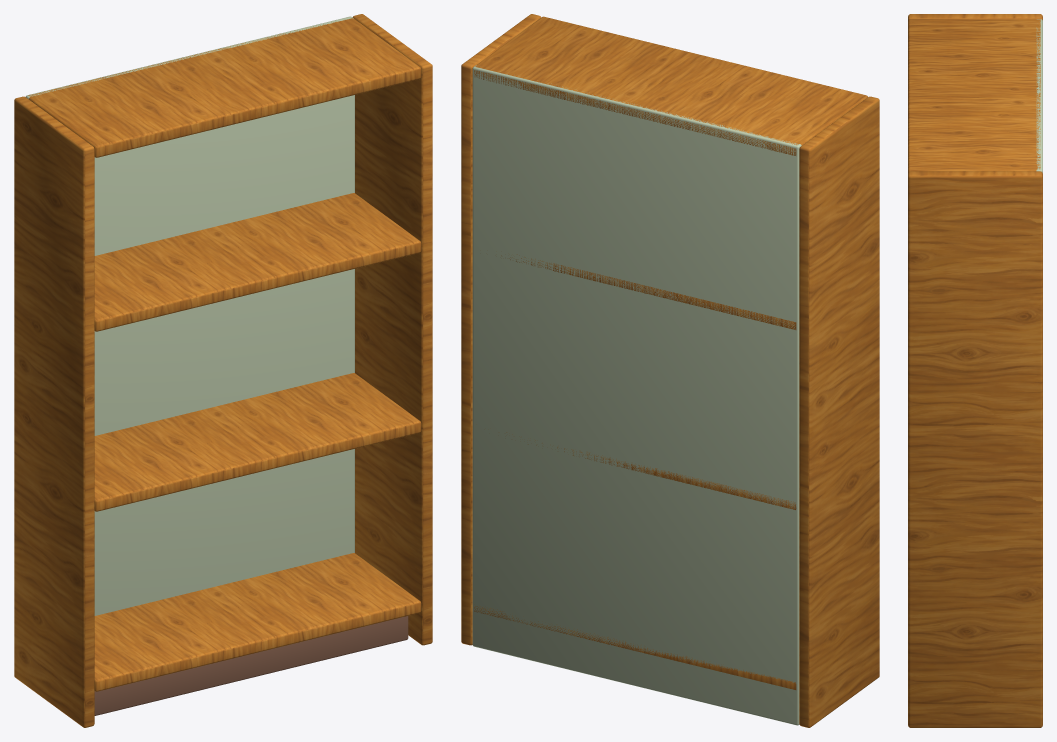
File: display-bookcase.glb
3 renders of one model, left to right at view 1: azimuth 30°, elevation 25°; view 2: azimuth 150°, elevation 25°; view 3: azimuth 270°, elevation 25°, orthographic. The views are drawn at different scales.
Visible parts, largest first — view 1: display-bookcase; view 2: display-bookcase; view 3: display-bookcase.
Boxes of the visible parts, left/top/right/bottom form: display-bookcase: left=14, top=14, right=432, bottom=727; display-bookcase: left=461, top=14, right=879, bottom=727; display-bookcase: left=908, top=14, right=1042, bottom=727.
Bounding box in the file's own units: 1.2 × 1.9 × 0.42.
Materials: 3 (1 with a texture image).
